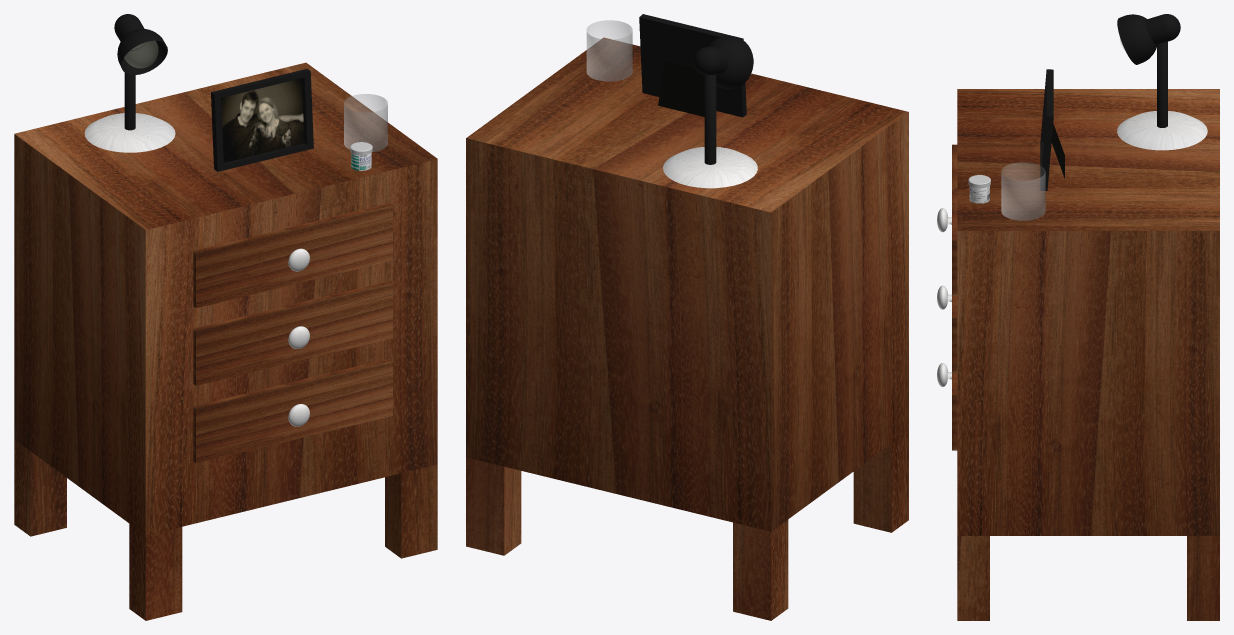
The model's file is nightstand3.fbx.
3 views of the same model, side by side, from view 1: azimuth 30°, elevation 25°; view 2: azimuth 150°, elevation 25°; view 3: azimuth 270°, elevation 25° (orthographic). The views are drawn at different scales.
Parts seen in each view (by area): view 1: Nightstand, Picture Frame, Lamp, Cup, Medication; view 2: Nightstand, Picture Frame, Lamp, Cup; view 3: Nightstand, Lamp, Cup, Picture Frame, Medication.
Boxes of the visible parts, x1,y1,x2,y2 form: Nightstand: [14, 62, 437, 620]; Picture Frame: [211, 69, 313, 171]; Lamp: [84, 14, 175, 152]; Cup: [344, 94, 387, 151]; Medication: [350, 142, 372, 170]; Nightstand: [466, 37, 908, 620]; Picture Frame: [639, 14, 746, 117]; Lamp: [663, 36, 757, 188]; Cup: [586, 20, 632, 81]; Nightstand: [937, 89, 1219, 620]; Lamp: [1117, 14, 1207, 150]; Cup: [1001, 162, 1045, 220]; Picture Frame: [1040, 69, 1064, 190]; Medication: [968, 175, 990, 203].
Size of the model in its own units: 200 by 332 by 168.
